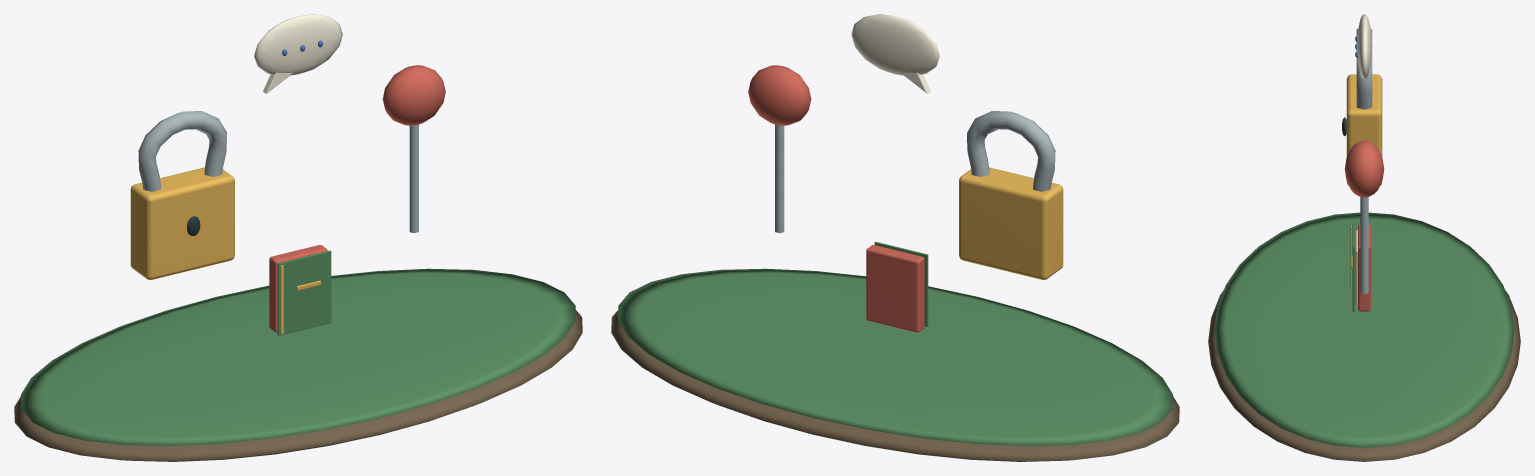
Rendered from complete-first-about-marked-topic.glb.
The picture shows the model from 3 angles, left to right: view 1: azimuth 30°, elevation 25°; view 2: azimuth 150°, elevation 25°; view 3: azimuth 270°, elevation 25°; orthographic projection. The views are drawn at different scales.
Visible parts, largest first — view 1: complete-first-about-marked-topic_surface_01, complete-first-about-marked-topic_surface_02, complete-first-about-marked-topic_surface_00, complete-first-about-marked-topic_surface_03, complete-first-about-marked-topic_surface_07, complete-first-about-marked-topic_surface_05; view 2: complete-first-about-marked-topic_surface_01, complete-first-about-marked-topic_surface_00, complete-first-about-marked-topic_surface_02, complete-first-about-marked-topic_surface_05, complete-first-about-marked-topic_surface_03, complete-first-about-marked-topic_surface_07; view 3: complete-first-about-marked-topic_surface_01, complete-first-about-marked-topic_surface_00, complete-first-about-marked-topic_surface_05, complete-first-about-marked-topic_surface_02, complete-first-about-marked-topic_surface_03, complete-first-about-marked-topic_surface_07.
Boxes of the visible parts, bbox=[...] form: complete-first-about-marked-topic_surface_01: bbox=[21, 250, 575, 445]; complete-first-about-marked-topic_surface_02: bbox=[130, 167, 320, 334]; complete-first-about-marked-topic_surface_00: bbox=[14, 310, 582, 461]; complete-first-about-marked-topic_surface_03: bbox=[138, 111, 418, 233]; complete-first-about-marked-topic_surface_07: bbox=[254, 14, 342, 93]; complete-first-about-marked-topic_surface_05: bbox=[269, 65, 445, 332]; complete-first-about-marked-topic_surface_01: bbox=[618, 241, 1172, 445]; complete-first-about-marked-topic_surface_00: bbox=[611, 310, 1179, 461]; complete-first-about-marked-topic_surface_02: bbox=[959, 167, 1063, 279]; complete-first-about-marked-topic_surface_05: bbox=[748, 65, 924, 332]; complete-first-about-marked-topic_surface_03: bbox=[775, 111, 1055, 233]; complete-first-about-marked-topic_surface_07: bbox=[851, 14, 939, 93]; complete-first-about-marked-topic_surface_01: bbox=[1214, 212, 1514, 447]; complete-first-about-marked-topic_surface_00: bbox=[1208, 290, 1520, 461]; complete-first-about-marked-topic_surface_05: bbox=[1344, 140, 1384, 311]; complete-first-about-marked-topic_surface_02: bbox=[1346, 74, 1382, 288]; complete-first-about-marked-topic_surface_03: bbox=[1356, 29, 1372, 294]; complete-first-about-marked-topic_surface_07: bbox=[1357, 14, 1371, 78].
Bounding box in the file's own units: 4.56 × 2.96 × 2.5.
